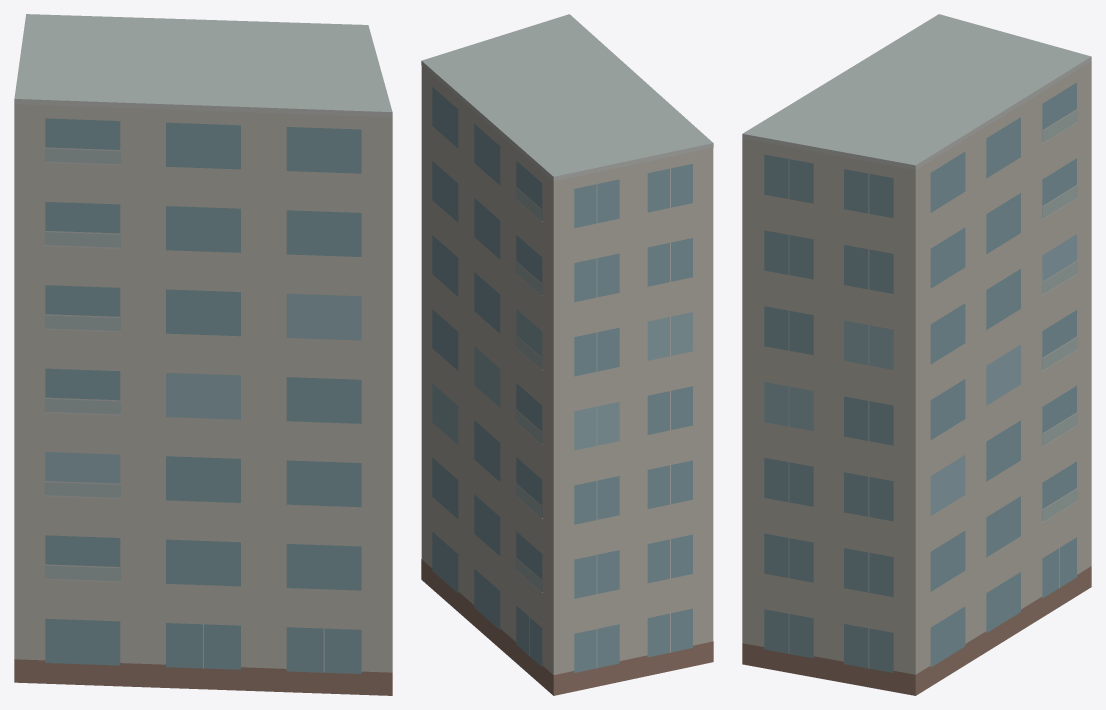
The model's file is survey-upis-32481963.glb.
The picture shows the model from 3 angles, left to right: view 1: azimuth 30°, elevation 25°; view 2: azimuth 150°, elevation 25°; view 3: azimuth 270°, elevation 25°; orthographic projection. The views are drawn at different scales.
Visible parts, largest first — view 1: survey-upis-32481963.tmp; view 2: survey-upis-32481963.tmp; view 3: survey-upis-32481963.tmp.
Boxes of the visible parts, box(x1,y1,x2,y2) form: survey-upis-32481963.tmp: box(14, 14, 392, 695); survey-upis-32481963.tmp: box(421, 14, 713, 695); survey-upis-32481963.tmp: box(742, 14, 1091, 695).
Bounding box in the file's own units: 16.93 × 27.65 × 16.51.
